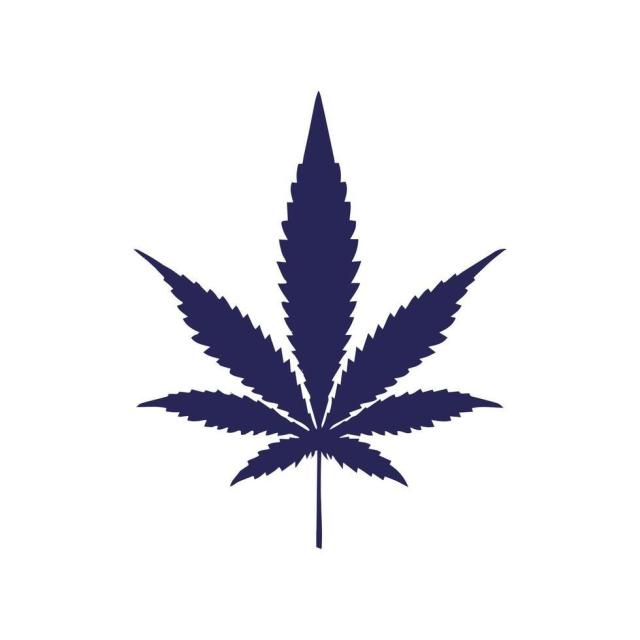cannabis: (134, 93, 505, 549)
